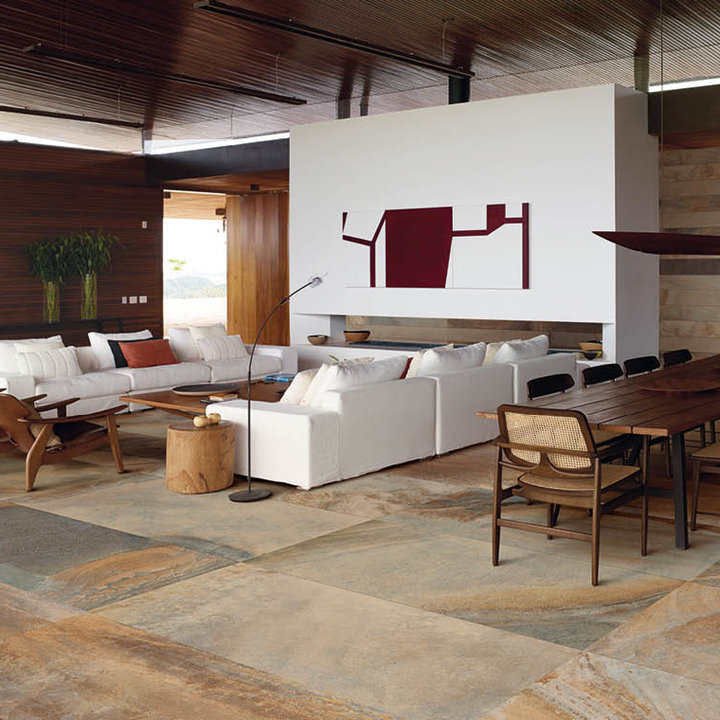chair: (2, 388, 132, 494)
dining table set: (477, 348, 720, 588)
floor lamp: (222, 273, 329, 503)
large plant: (67, 224, 116, 320), (26, 239, 68, 323)
sofa: (206, 330, 592, 501), (0, 319, 304, 415)
table: (122, 382, 276, 419)
wall art: (334, 200, 532, 295)
